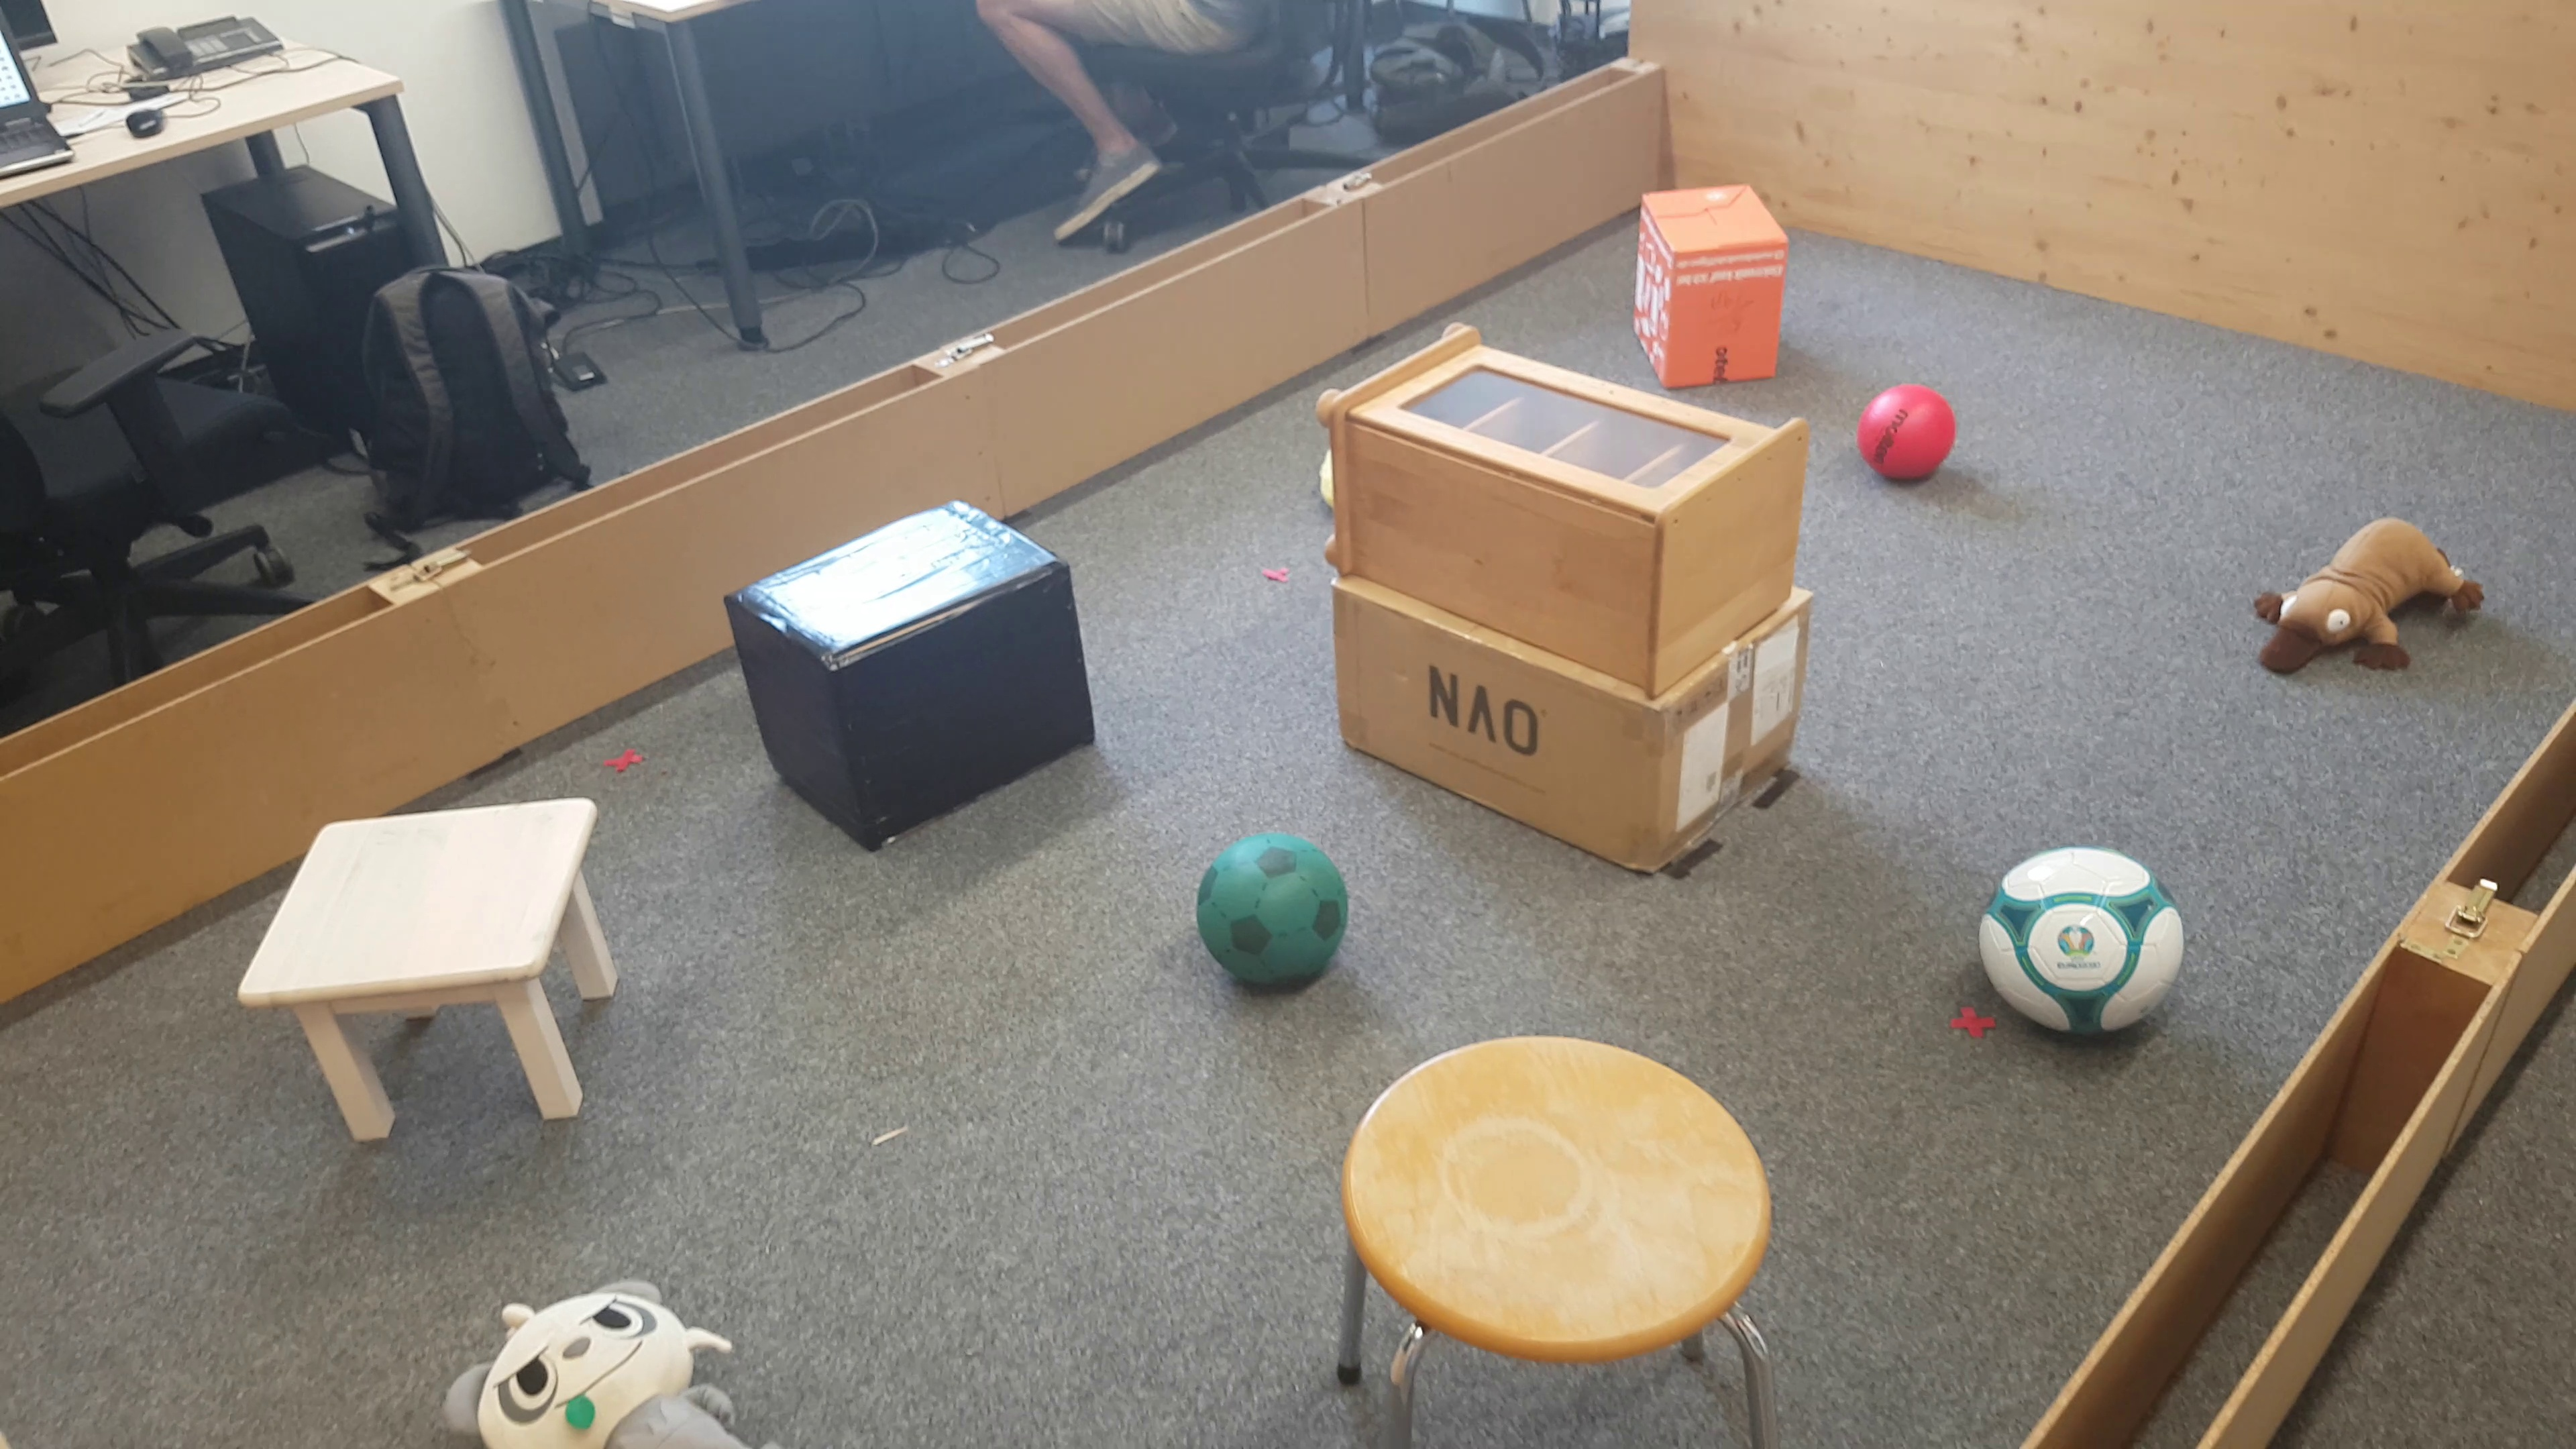grasp: (441, 1274, 777, 1449), (2254, 508, 2479, 686)
kick: (1985, 837, 2185, 1054), (1200, 828, 1355, 1001), (1852, 377, 1955, 487)
push: (732, 499, 1099, 840), (1637, 182, 1787, 391)
